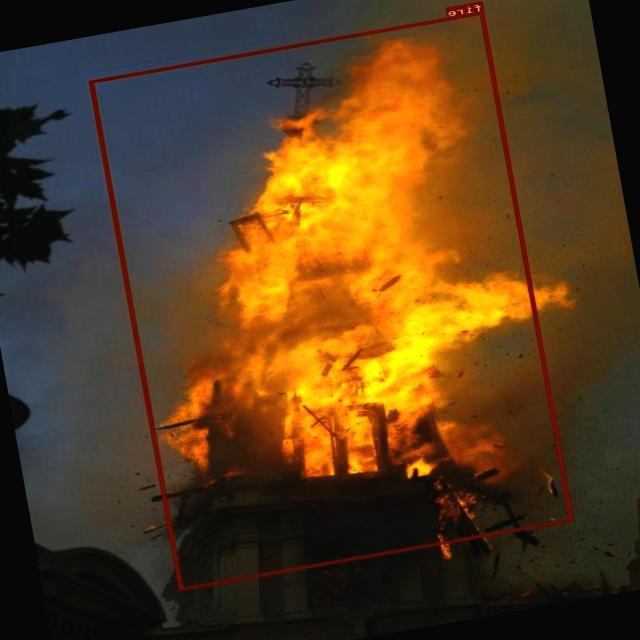fire: (89, 9, 574, 590)
